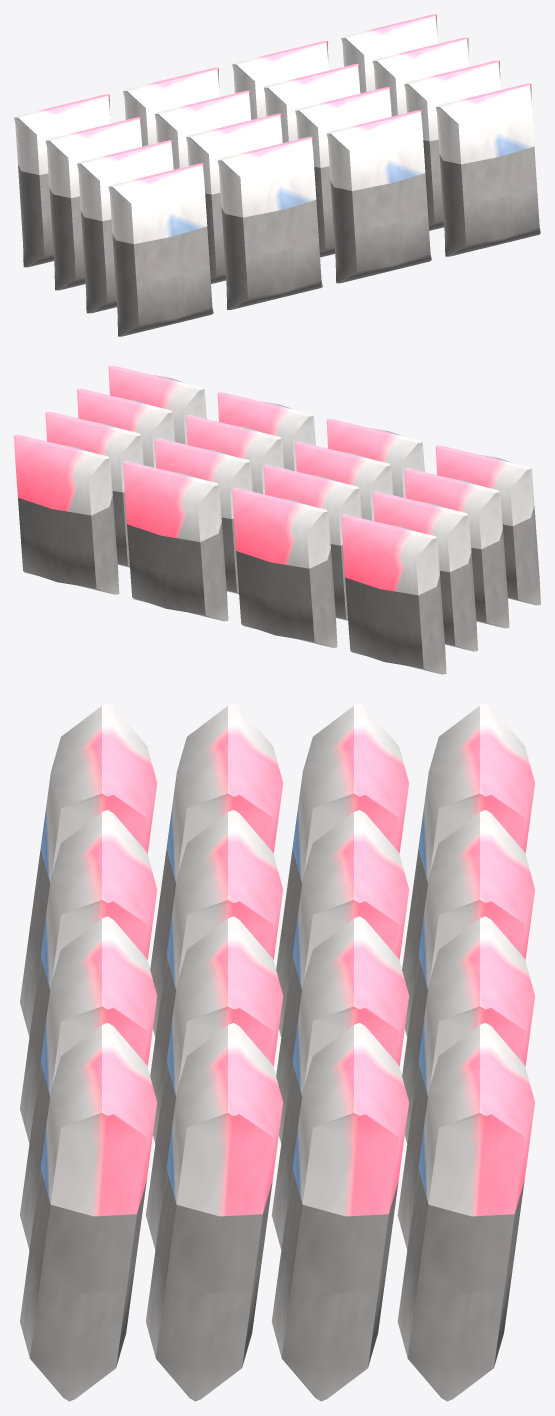
The model's file is Ruffles_Chip.fbx.
3 views of the same model, one above another, from view 1: azimuth 30°, elevation 25°; view 2: azimuth 150°, elevation 25°; view 3: azimuth 270°, elevation 25° (orthographic). The views are drawn at different scales.
Parts seen in each view (by area): view 1: RufflesChips77; view 2: RufflesChips77; view 3: RufflesChips77.
Part boxes in pixels (box(x1,y1,x2,y2)): RufflesChips77: box(14, 14, 540, 336); RufflesChips77: box(14, 365, 540, 674); RufflesChips77: box(20, 703, 534, 1401).
Bounding box in the file's own units: 116 × 37.66 × 61.37.
